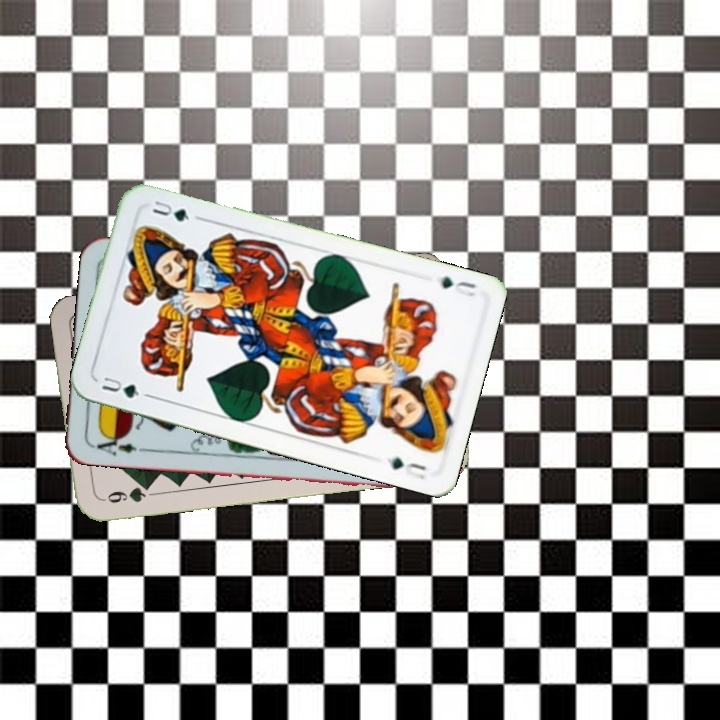EA: (88, 430, 147, 459)
G9: (96, 480, 155, 506)
GU: (98, 372, 152, 401), (436, 272, 479, 300)
